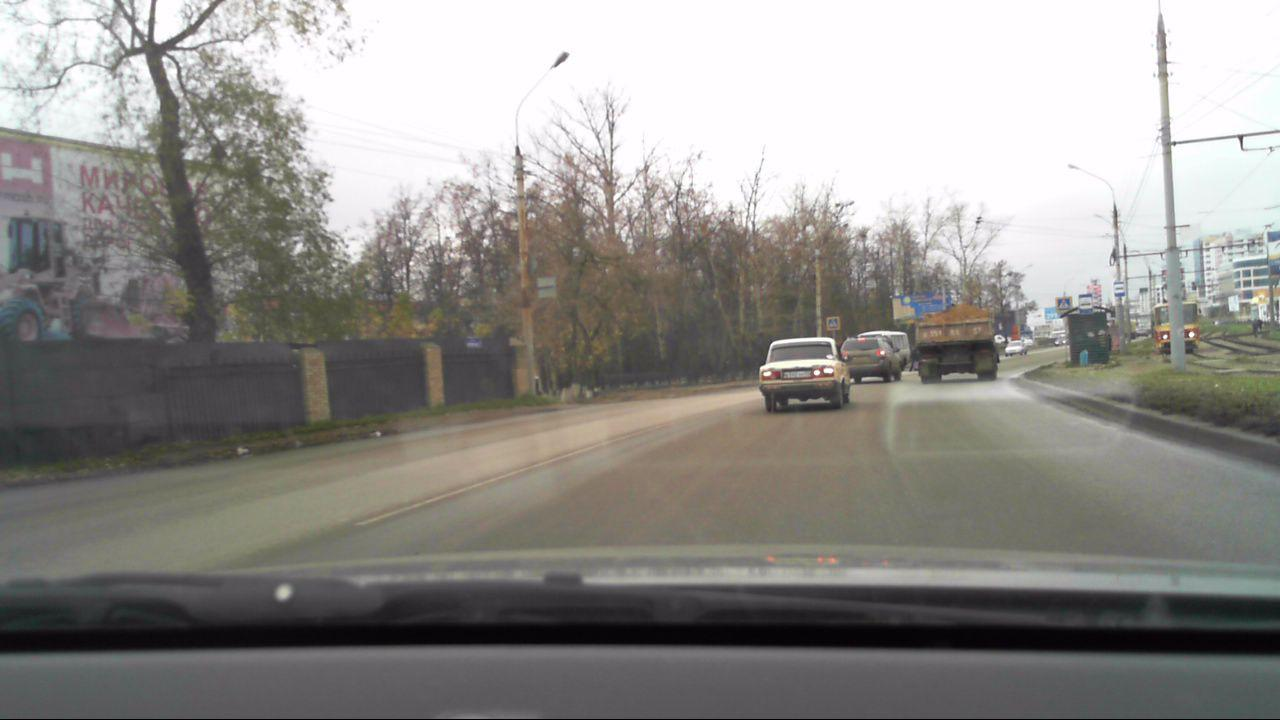5_16: (1113, 280, 1126, 298)
5_17: (1077, 294, 1095, 317)
5_19_1: (1057, 295, 1071, 311)
5_19_2: (827, 316, 838, 329)
